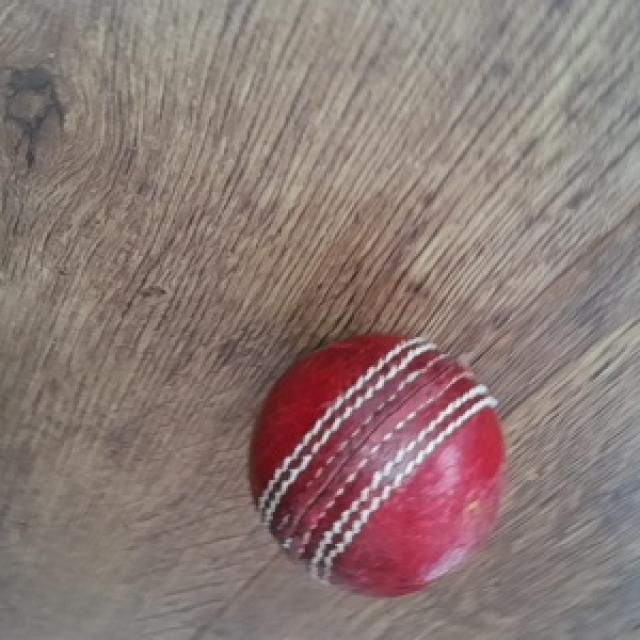ball: (245, 335, 508, 602)
